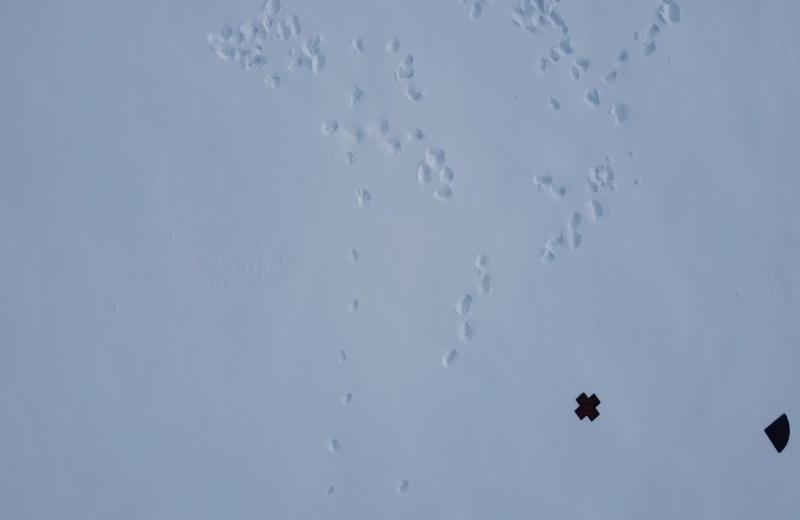Cross: (574, 390, 604, 426)
Quarter Circle: (763, 409, 793, 459)
